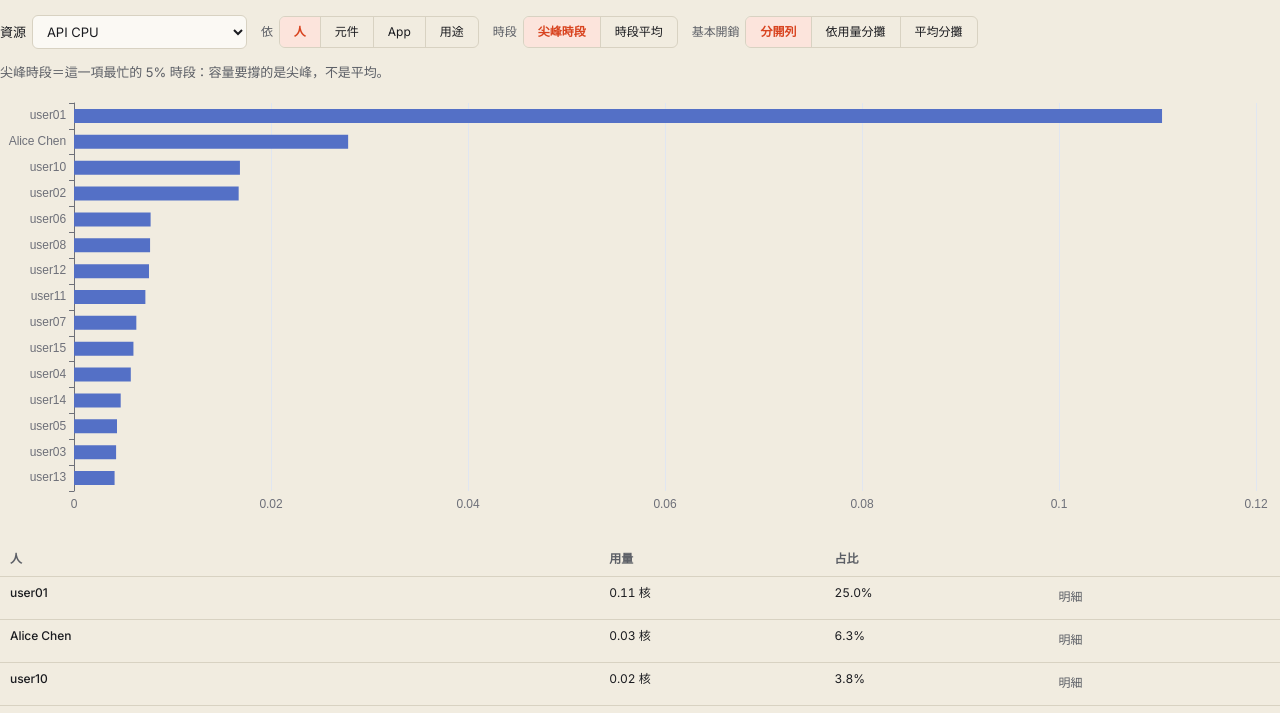
Test: allocation (view 2) › opens one person's detail from their row
Click the button with aria-label "Alice Chen 的明細" at (1071, 641), box x1=1048 y1=627 x2=1094 y2=655
(page scrolled)
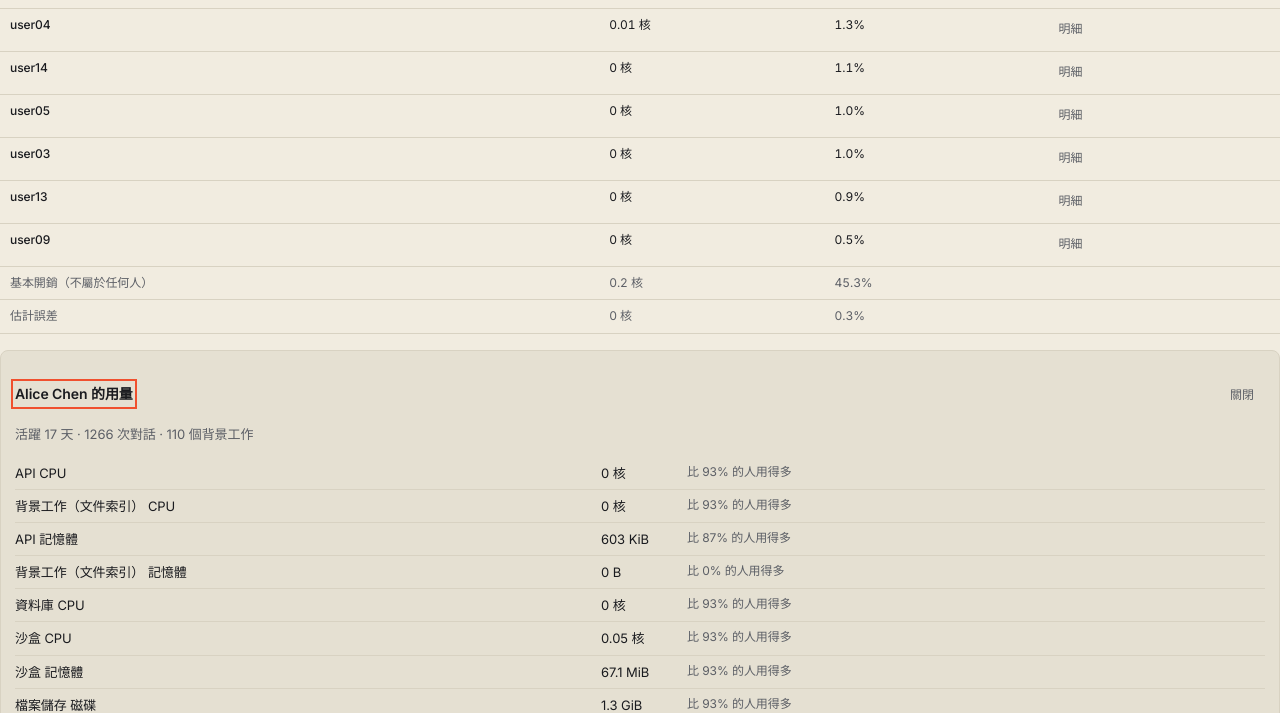
Expected: the heading "Alice Chen 的用量" is shown, x1=15 y1=383 x2=133 y2=405
